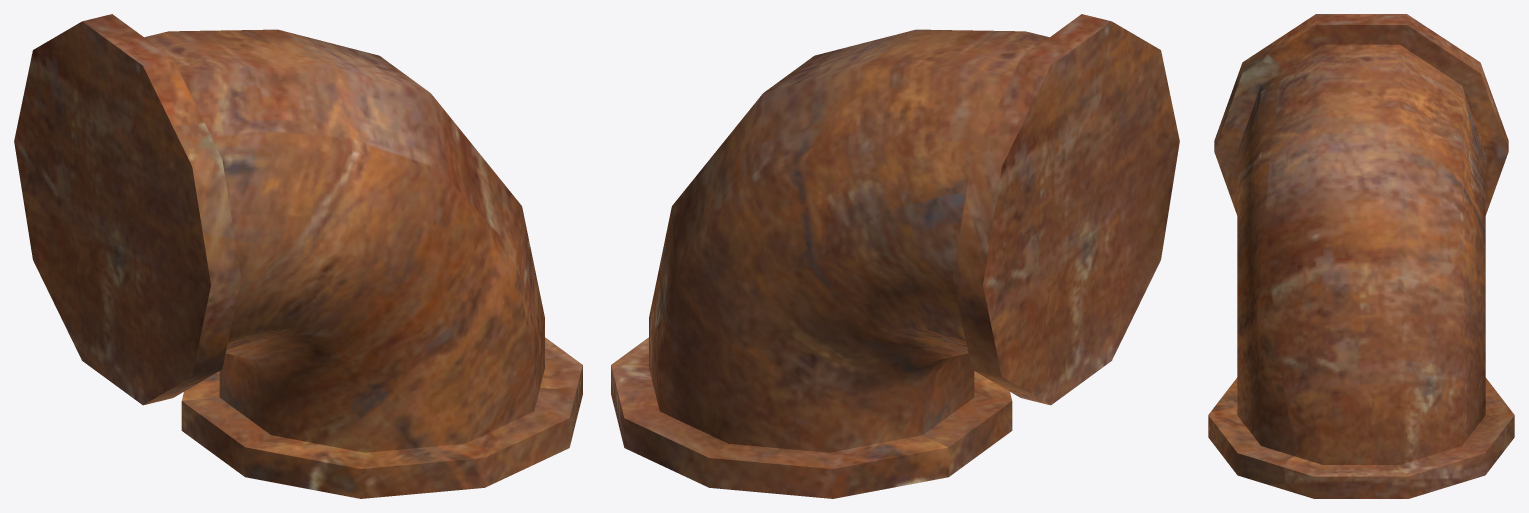
File: PipeBendA.FBX
3 renders of one model, left to right at view 1: azimuth 30°, elevation 25°; view 2: azimuth 150°, elevation 25°; view 3: azimuth 270°, elevation 25°, orthographic. The views are drawn at different scales.
Parts seen in each view (by area): view 1: PipeBend; view 2: PipeBend; view 3: PipeBend.
Boxes of the visible parts, <box> form: PipeBend: <box>14,14,582,498</box>; PipeBend: <box>611,14,1179,498</box>; PipeBend: <box>1208,14,1514,498</box>.
Bounding box in the file's own units: 41.35 × 39.19 × 33.48.
